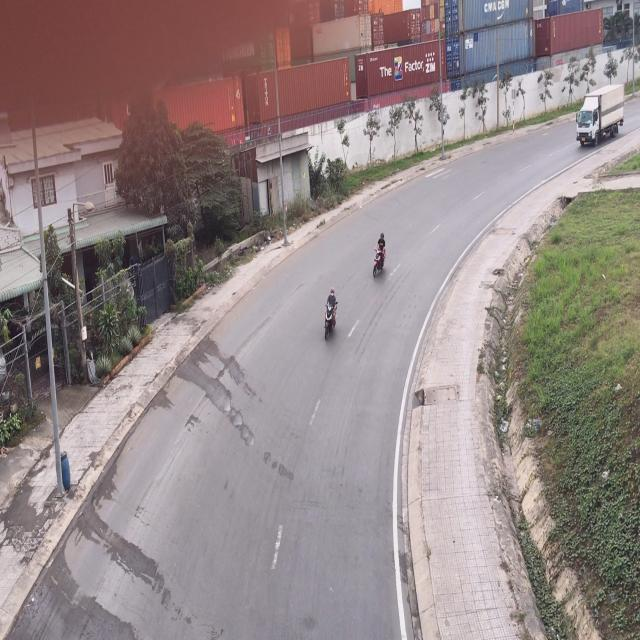motorbike: (369, 229, 387, 279), (324, 290, 340, 345)
truck: (574, 81, 625, 150)
